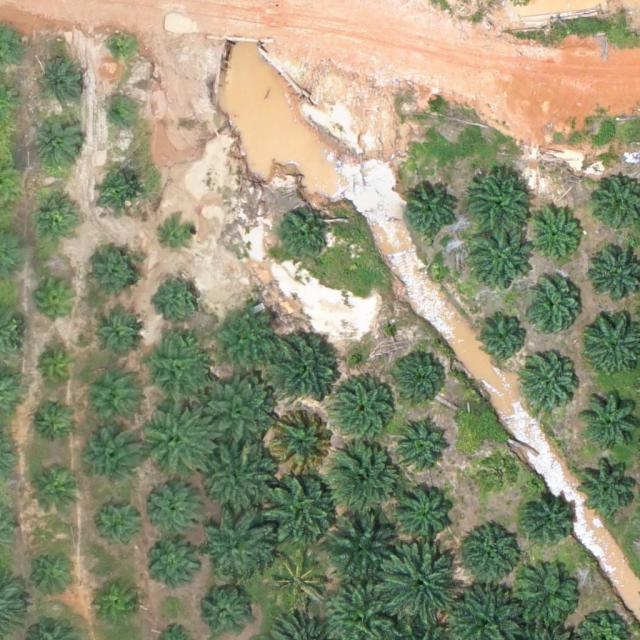Dead: (477, 450, 524, 497)
Grass: (262, 545, 333, 616)
Healthy: (139, 399, 217, 478), (266, 327, 344, 406), (262, 473, 340, 552), (201, 440, 279, 519), (199, 506, 277, 585), (326, 437, 404, 516), (378, 546, 456, 625), (196, 377, 274, 455), (325, 509, 403, 587), (510, 565, 581, 636), (143, 336, 213, 407), (212, 304, 282, 375), (330, 376, 400, 447), (147, 477, 210, 540), (457, 526, 520, 589), (471, 228, 533, 291), (469, 170, 531, 233), (393, 479, 455, 542), (80, 371, 142, 433), (85, 428, 140, 483), (146, 536, 201, 591), (529, 211, 584, 266), (527, 281, 582, 336), (522, 358, 577, 413), (403, 186, 458, 241), (521, 490, 575, 545), (398, 417, 452, 472), (395, 351, 449, 406), (196, 586, 250, 640), (37, 118, 84, 166)
Small: (89, 249, 144, 304), (277, 211, 332, 266), (91, 310, 145, 365), (477, 311, 531, 366), (94, 171, 141, 219), (30, 398, 77, 446), (34, 343, 81, 391), (37, 58, 84, 105), (32, 192, 79, 239), (36, 276, 83, 323), (33, 468, 80, 515), (31, 553, 78, 600), (94, 578, 141, 625), (99, 503, 146, 550), (157, 273, 204, 320), (161, 216, 200, 255), (106, 34, 137, 65), (103, 101, 134, 132)
Yellow: (267, 407, 337, 478)
